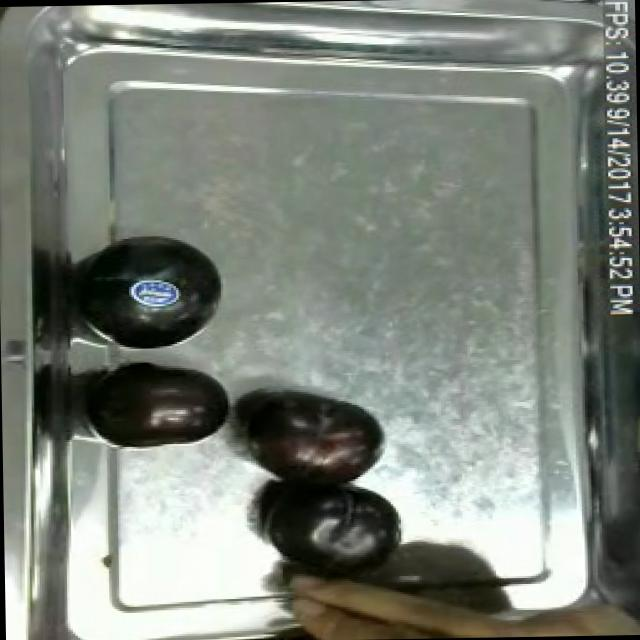Fruit: (73, 222, 236, 356), (232, 378, 392, 496), (253, 464, 411, 580), (84, 353, 240, 452)
